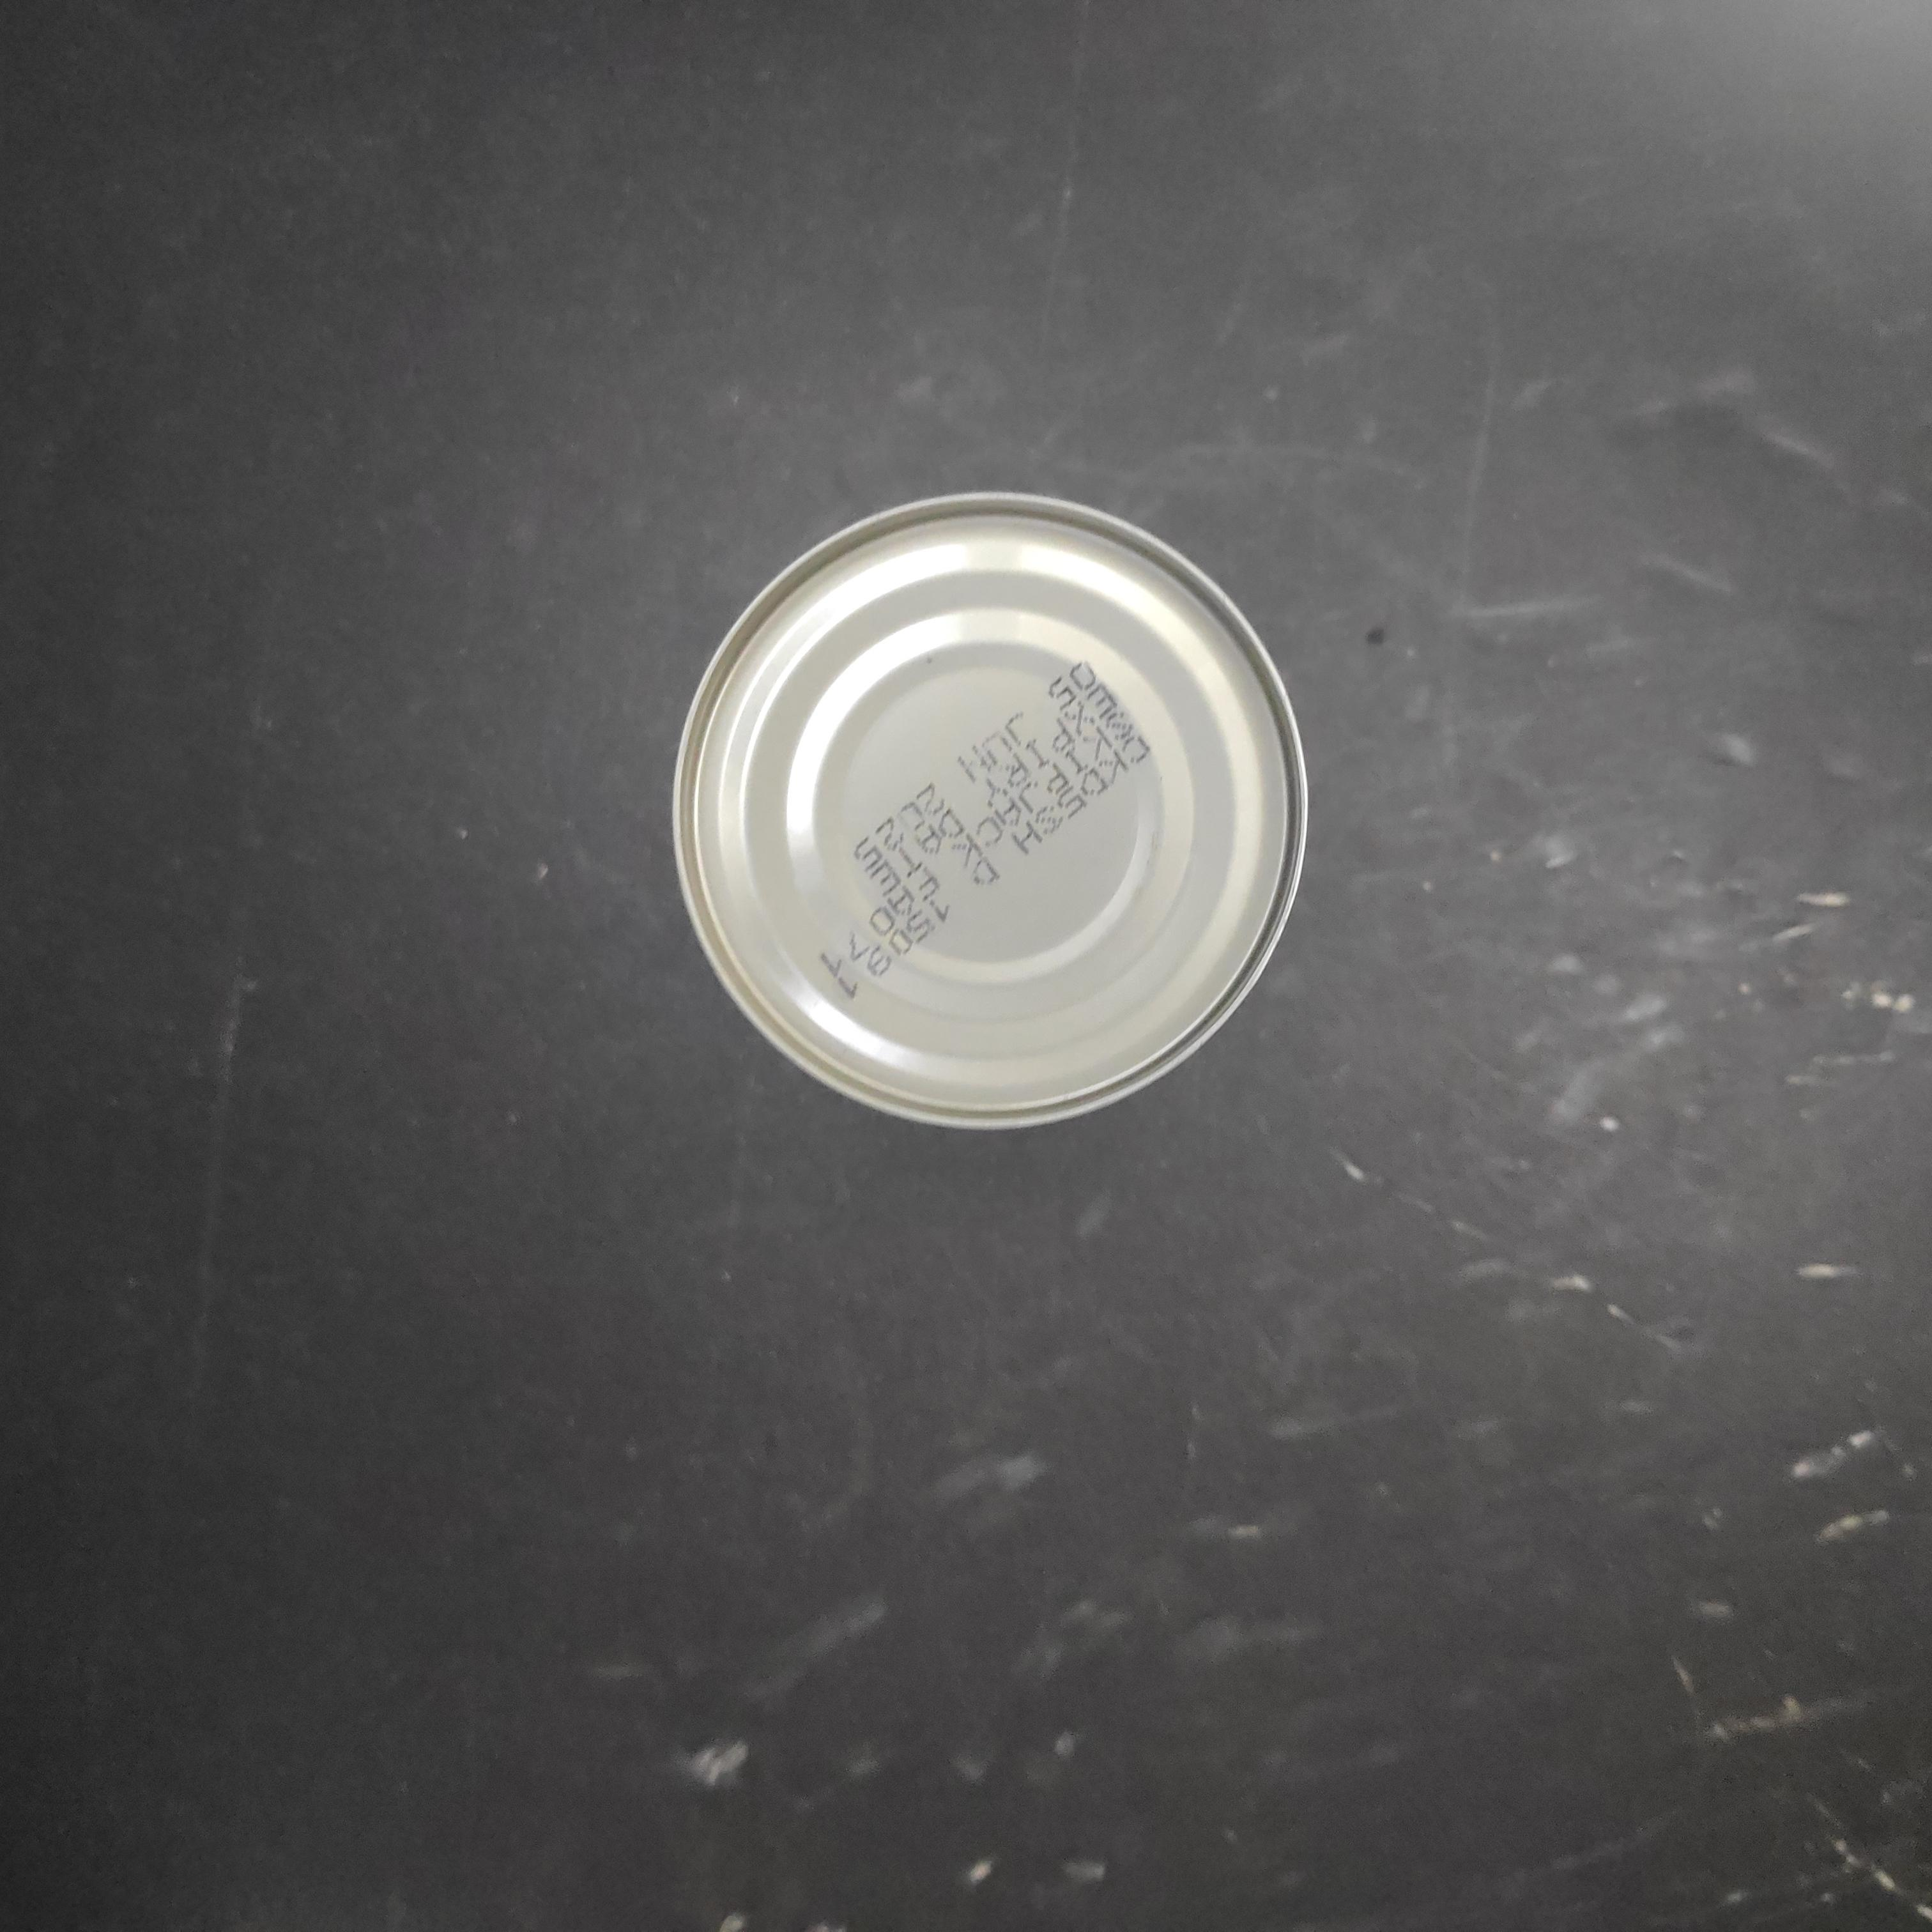No defect: (621, 798, 1263, 1442)
